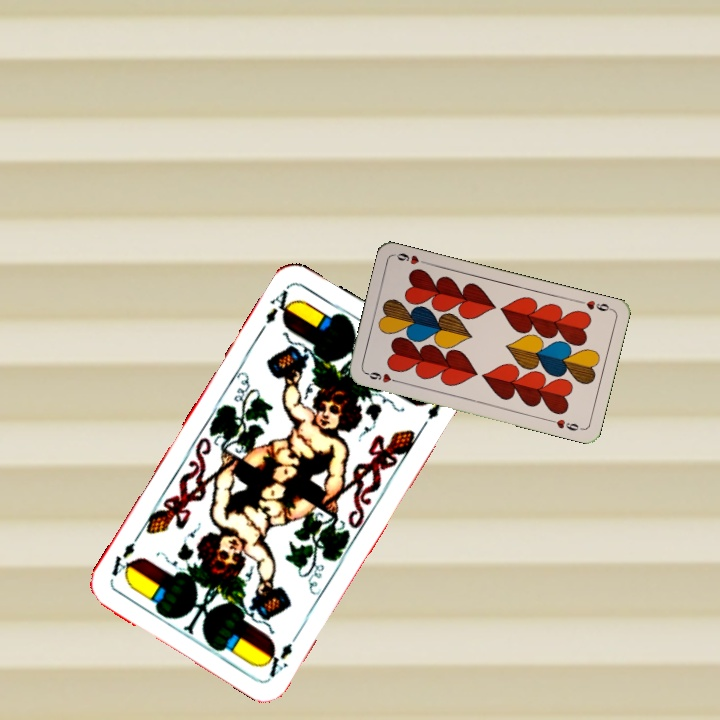EA: (261, 627, 303, 681), (261, 281, 298, 327)
H9: (575, 296, 615, 314), (362, 368, 402, 385)
